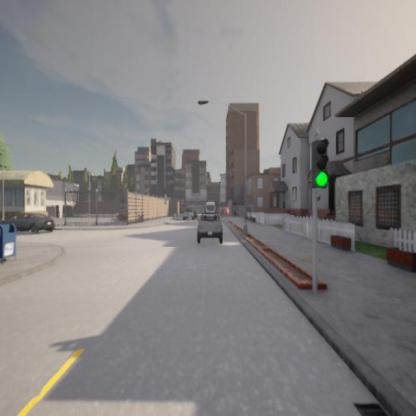traffic_light_green: (310, 140, 330, 188)
vehicle: (3, 212, 54, 234), (195, 213, 224, 241)
